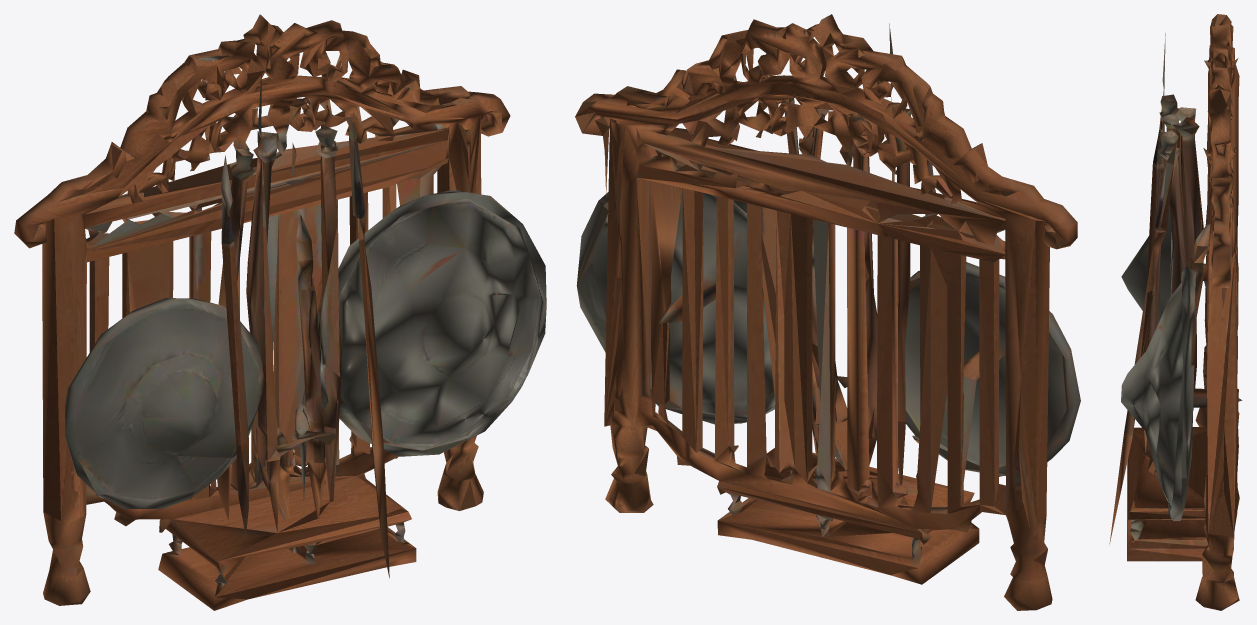
File: weapon_rack.glb
3 renders of one model, left to right at view 1: azimuth 30°, elevation 25°; view 2: azimuth 150°, elevation 25°; view 3: azimuth 270°, elevation 25°, orthographic. The views are drawn at different scales.
Visible parts, largest first — view 1: weapon_rack; view 2: weapon_rack; view 3: weapon_rack.
Part boxes in pixels (box(x1,y1,x2,y2)): weapon_rack: box(14, 14, 546, 610); weapon_rack: box(575, 14, 1080, 610); weapon_rack: box(1109, 14, 1242, 610).
Size of the model in its own units: 1.99 by 2 by 0.4932.
1 material, 1 textured.
